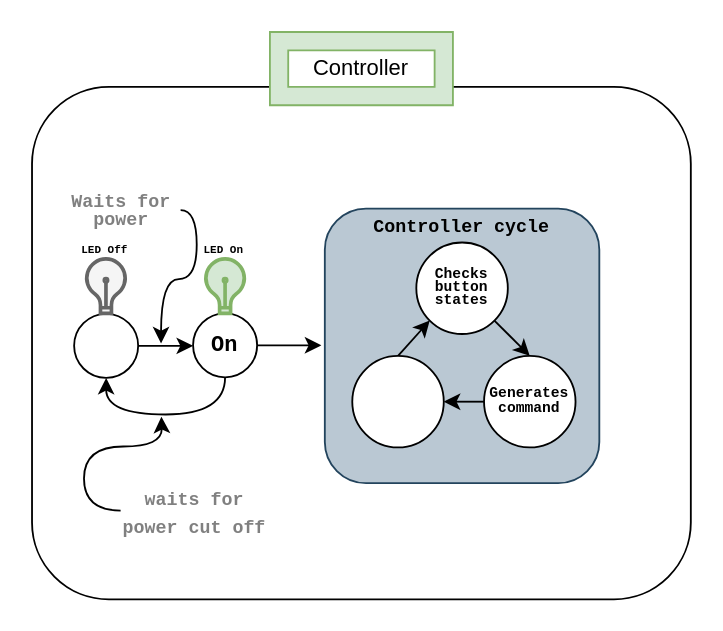
This 723x631 diagram has some shape labels left out. Each missing label, with the centre of its shape:
Off: the point at 105,345
Sends BT Command: the point at 397,400
